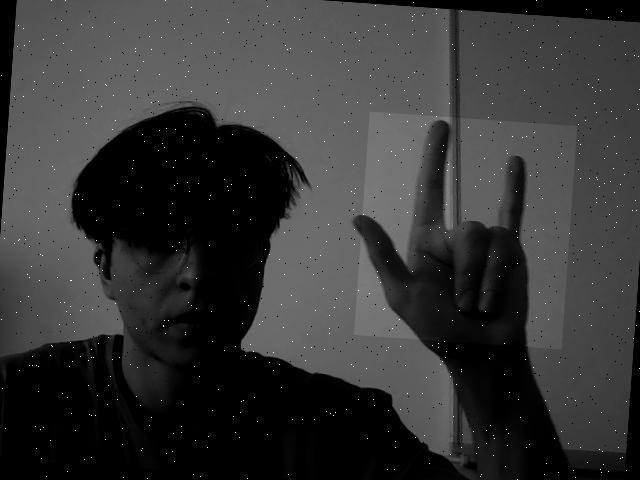I_Love_You: (353, 111, 577, 349)
